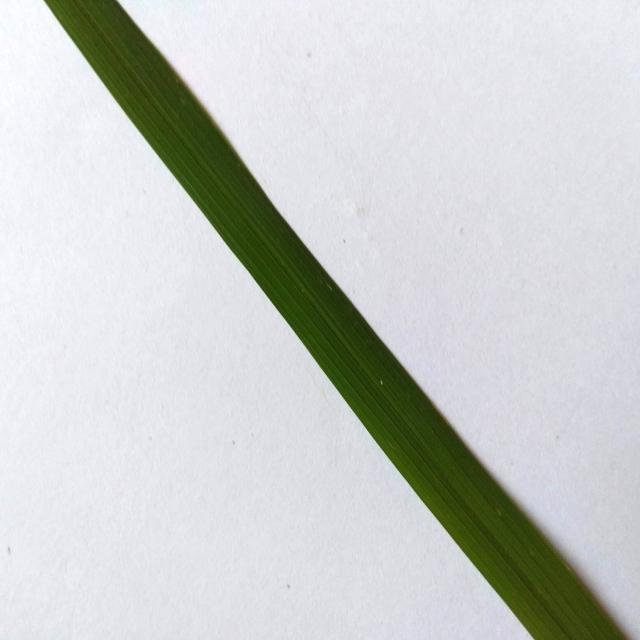Rice_Healthy: (46, 0, 625, 640)
